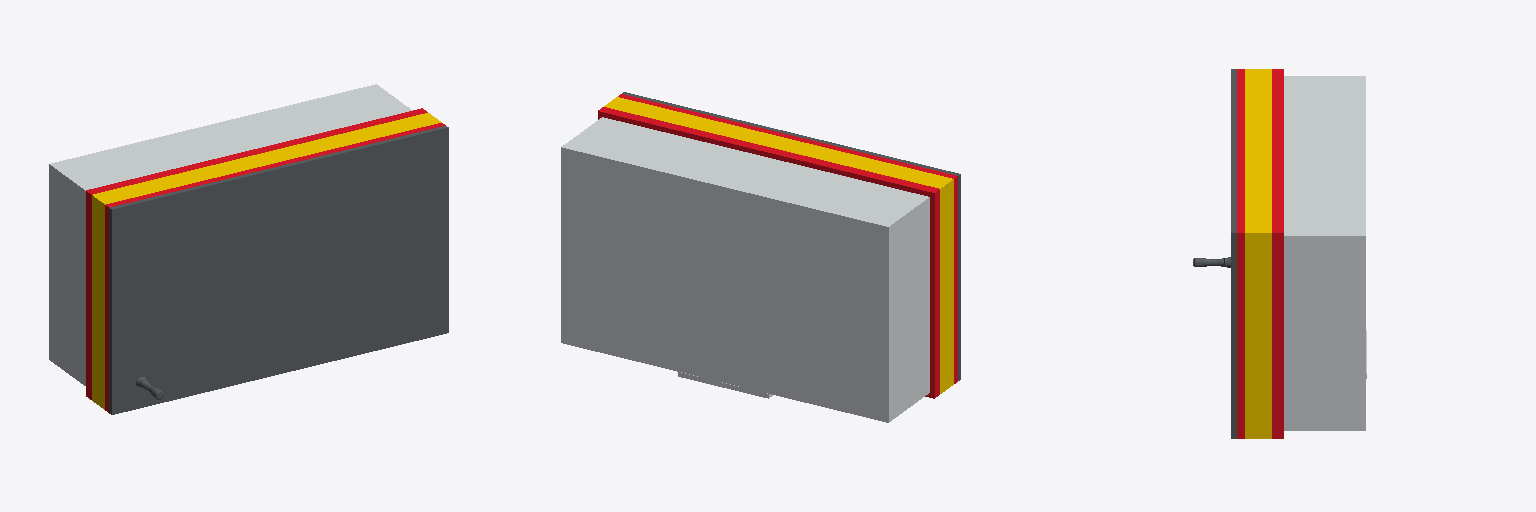
File: tinker.obj
The picture shows the model from 3 angles: view 1: azimuth 30°, elevation 25°; view 2: azimuth 150°, elevation 25°; view 3: azimuth 270°, elevation 25°; orthographic projection.
Parts seen in each view (by area): view 1: obj_0; view 2: obj_0; view 3: obj_0.
Part boxes in pixels (bbox=[...]): obj_0: bbox=[49, 84, 448, 414]; obj_0: bbox=[561, 92, 960, 422]; obj_0: bbox=[1193, 69, 1366, 438].
Size of the model in its own units: 72 by 43 by 32.04.